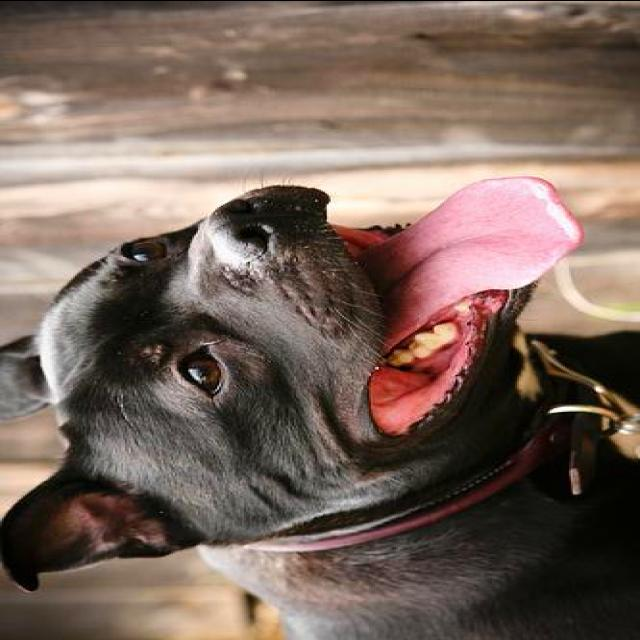staffordshire_bullterrier: (0, 177, 638, 638)
